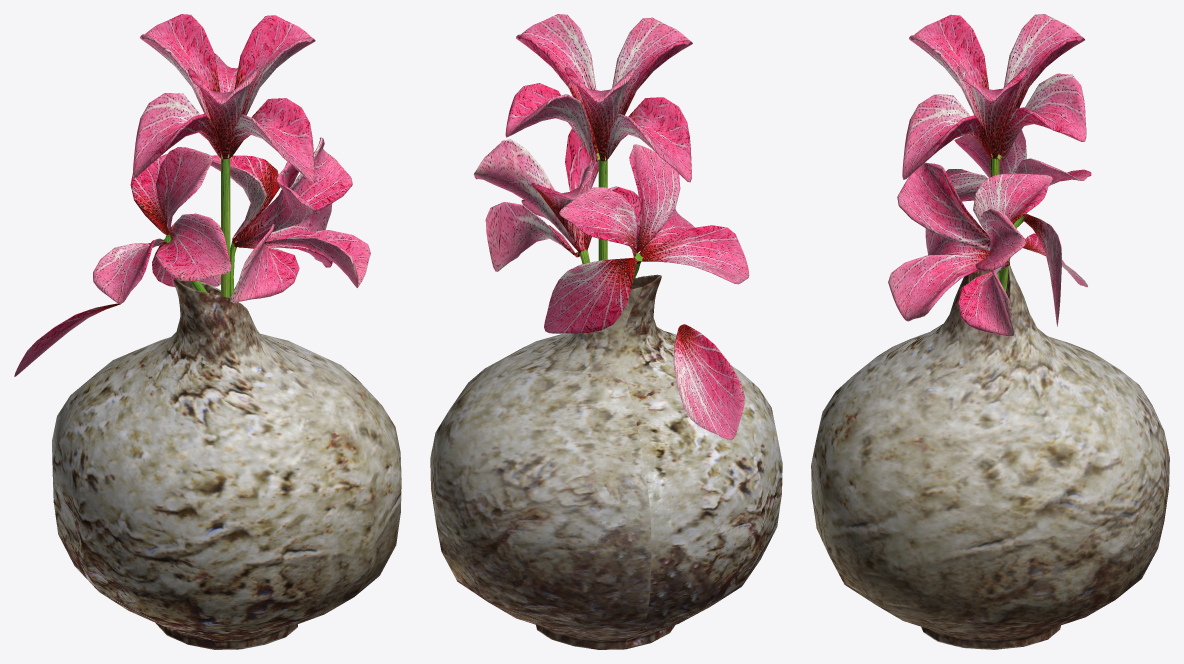
Rendered from Robbers_T3ANI210_VaseType1_Abdilla.fbx.
The picture shows the model from 3 angles, left to right: view 1: azimuth 30°, elevation 25°; view 2: azimuth 150°, elevation 25°; view 3: azimuth 270°, elevation 25°; orthographic projection.
Visible parts, largest first — view 1: Vase, TallFlower_2, TallFlower_1, FlowerBase_PartialHead, FallingPetal; view 2: Vase, TallFlower_2, FlowerBase_PartialHead, TallFlower_1, FallingPetal; view 3: Vase, TallFlower_2, TallFlower_1, FlowerBase_PartialHead.
Boxes of the visible parts, <box> form: Vase: <box>52,278,401,649</box>; TallFlower_2: <box>133,14,315,297</box>; TallFlower_1: <box>210,137,370,302</box>; FlowerBase_PartialHead: <box>93,147,231,303</box>; FallingPetal: <box>14,303,120,376</box>; Vase: <box>430,274,782,649</box>; TallFlower_2: <box>505,14,692,260</box>; FlowerBase_PartialHead: <box>544,144,749,333</box>; TallFlower_1: <box>473,128,640,271</box>; FallingPetal: <box>673,324,744,439</box>; Vase: <box>811,265,1169,649</box>; TallFlower_2: <box>902,14,1086,279</box>; TallFlower_1: <box>888,162,1052,336</box>; FlowerBase_PartialHead: <box>946,130,1091,326</box>.
Bounding box in the file's own units: 19.08 × 32.8 × 18.36.
5 materials, 5 textured.
